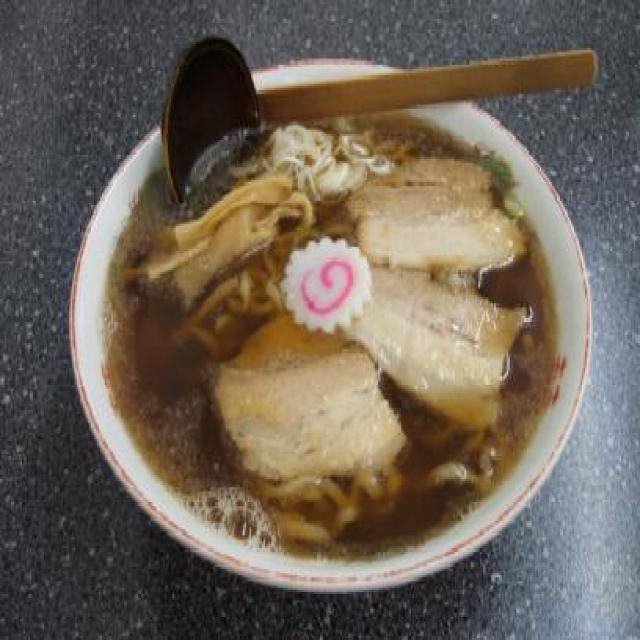面条主食: (59, 30, 600, 602)
